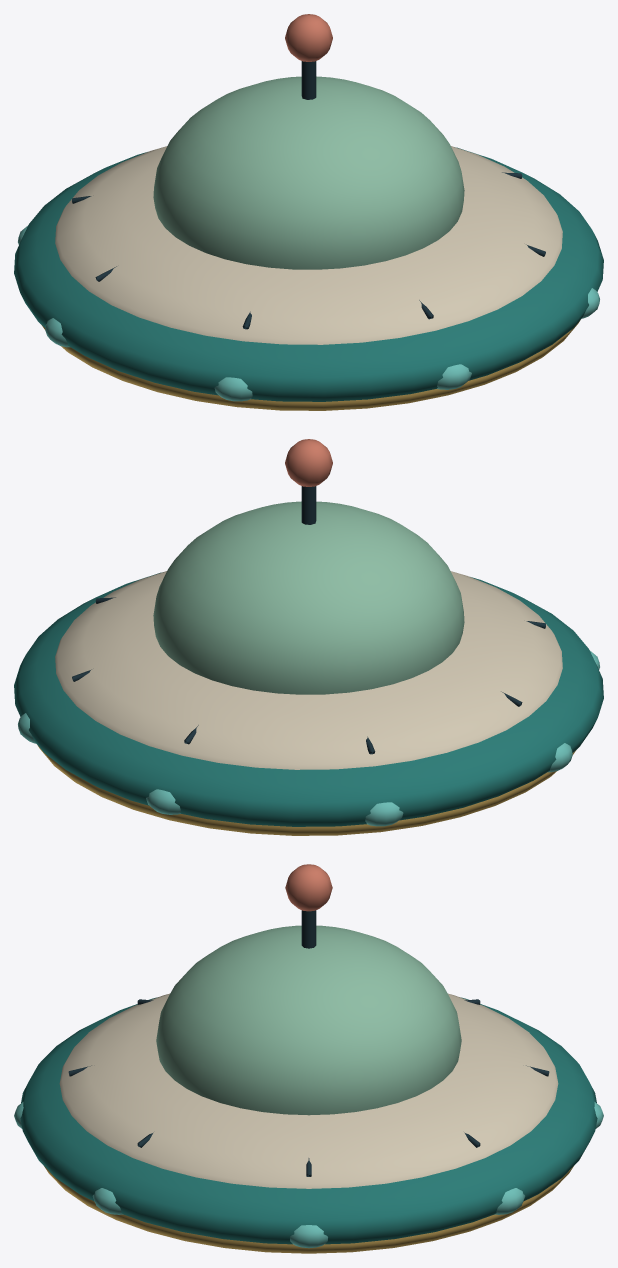
Rendered from alien-scout.glb.
3 renders of one model, top to bottom at view 1: azimuth 30°, elevation 25°; view 2: azimuth 150°, elevation 25°; view 3: azimuth 270°, elevation 25°, orthographic.
Visible parts, largest first — view 1: shell, emission; view 2: shell, emission; view 3: shell, emission.
Boxes of the visible parts, x1,y1,x2,y2 form: shell: (14,14,603,410); emission: (18,226,599,401); shell: (14,439,603,835); emission: (18,651,599,826); shell: (20,864,597,1253); emission: (14,1102,603,1248).
Size of the model in its own units: 2.24 by 1.46 by 2.24.
